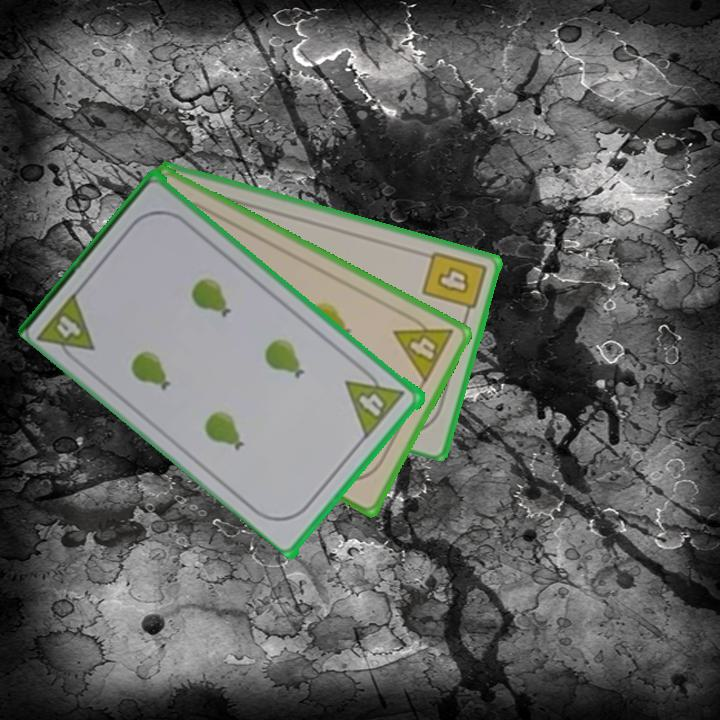4b: (418, 247, 489, 322)
4p: (34, 287, 99, 369), (390, 308, 457, 386), (342, 362, 409, 440)
